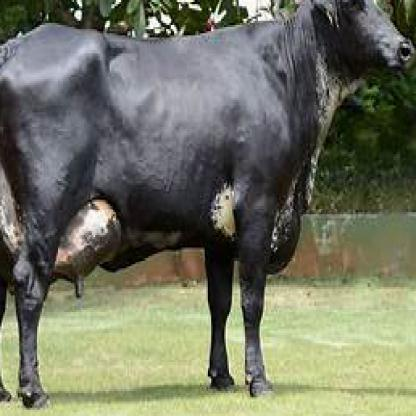cow: (1, 0, 415, 412)
